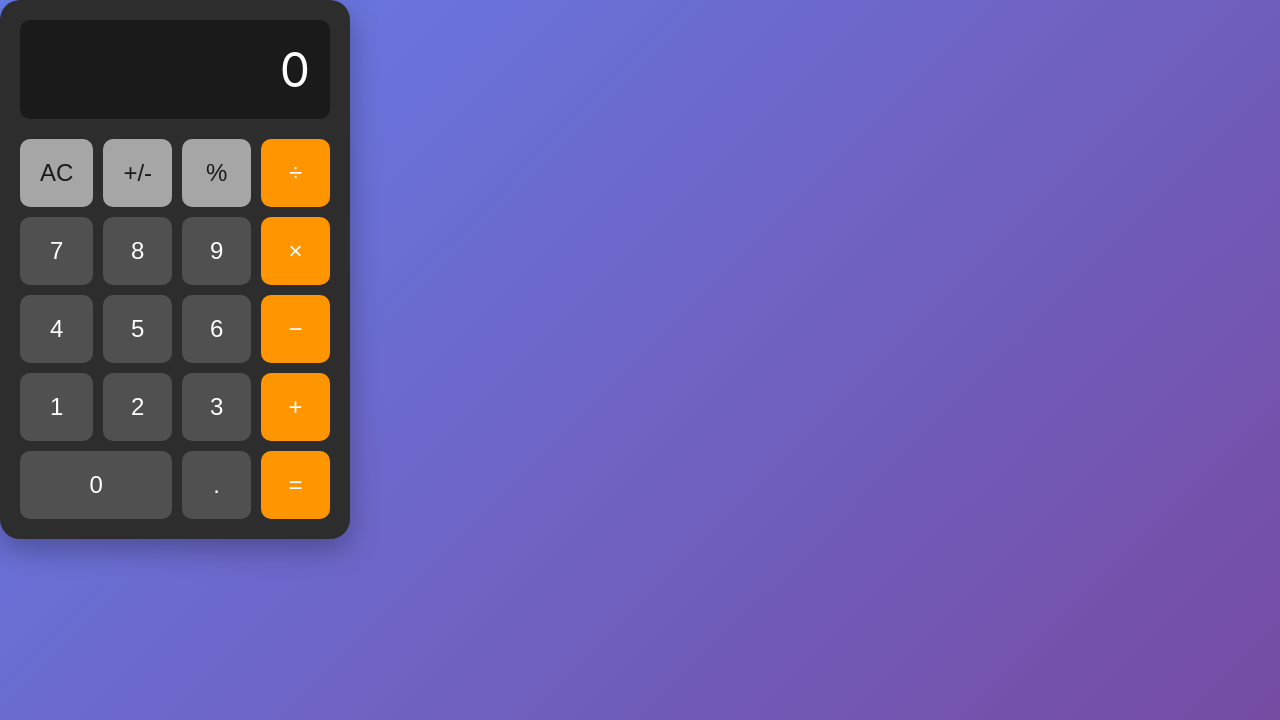
Calculator Component › clears display
What coordinates should you click on to do the following:
click the button "7"
I would click on:
 (57, 251)
Its box is [20,217,93,285].
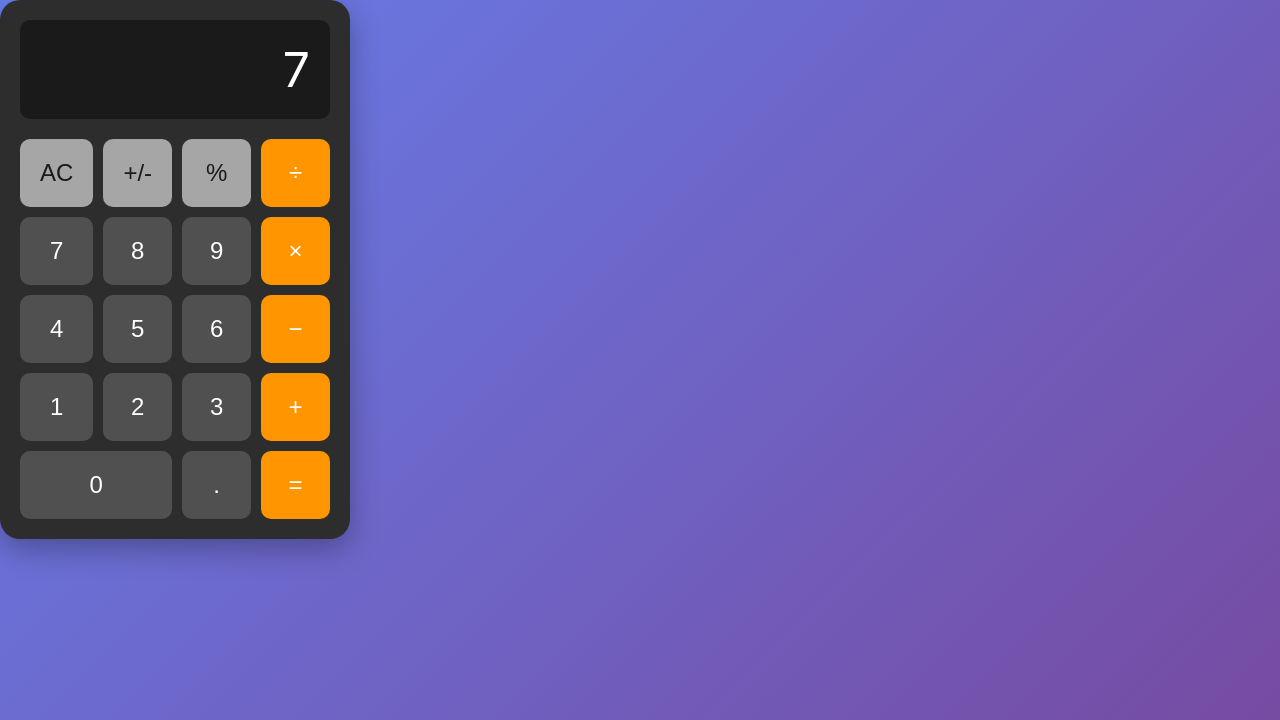
What coordinates should you click on to do the following:
click the button "AC"
I would click on:
 (57, 173)
Its box is [20,139,93,207].
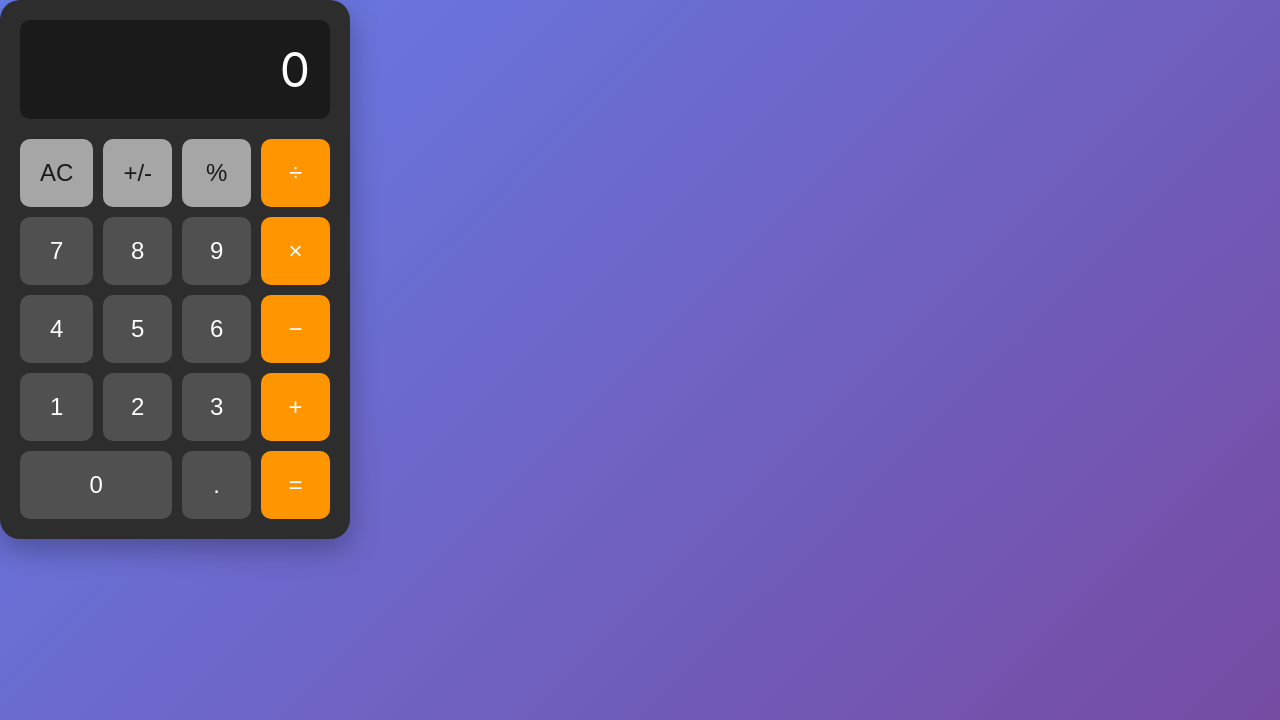
expect the text with class "calculator-display" reads "0": met, box [280,40,310,99]
